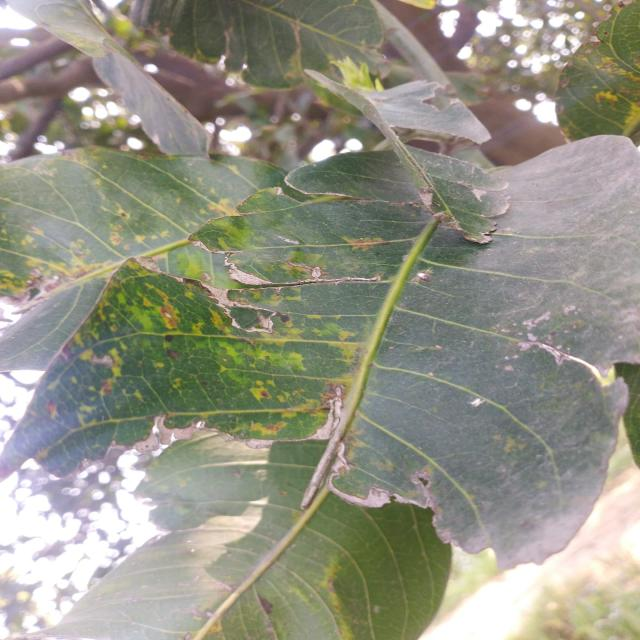Anthracnose: (20, 249, 90, 301), (87, 346, 137, 389)
Bacterial Cancer: (315, 394, 391, 509)
